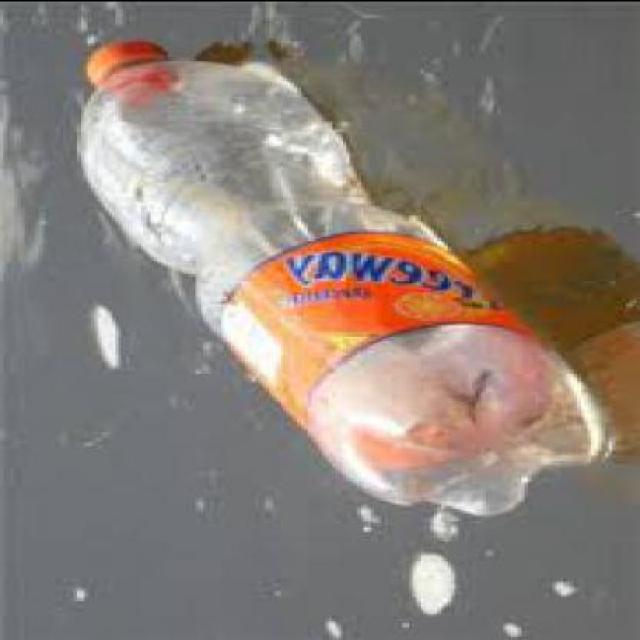PLASTIC: (81, 38, 605, 512), (217, 228, 538, 428), (80, 35, 168, 93)
